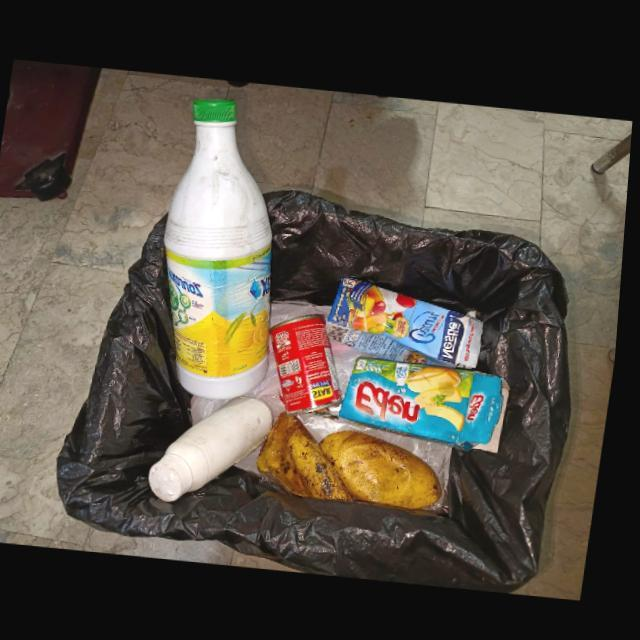biowaste: (324, 428, 448, 506), (263, 409, 361, 499)
metal: (274, 312, 347, 417)
paper: (344, 354, 516, 450), (329, 274, 487, 365)
plastic: (167, 97, 275, 399), (155, 395, 279, 501)
